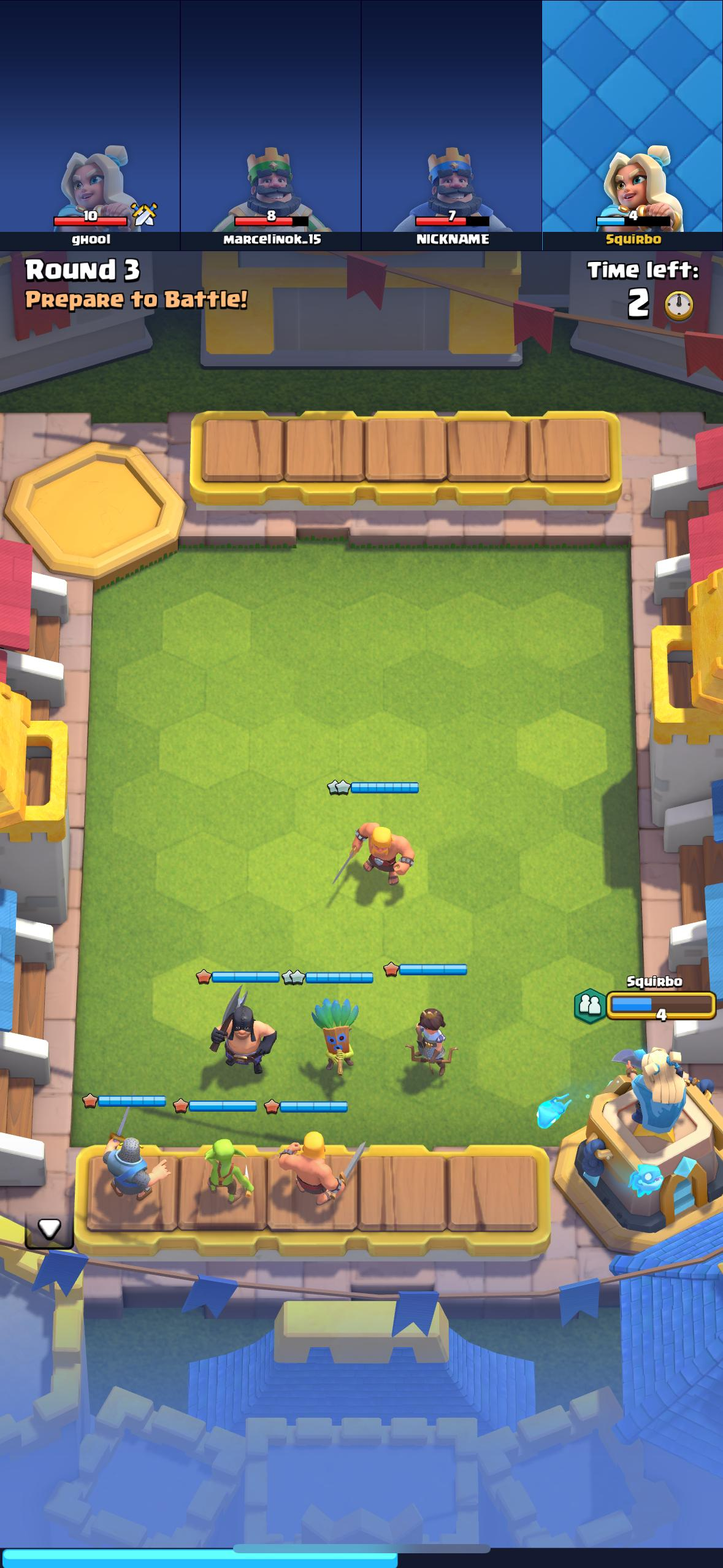barbarian: (278, 1124, 350, 1208), (348, 817, 415, 893)
dart: (299, 991, 361, 1070)
executioner: (209, 987, 273, 1072)
goblin: (200, 1136, 254, 1203)
knight: (100, 1125, 169, 1203)
princess: (403, 1002, 459, 1072)
